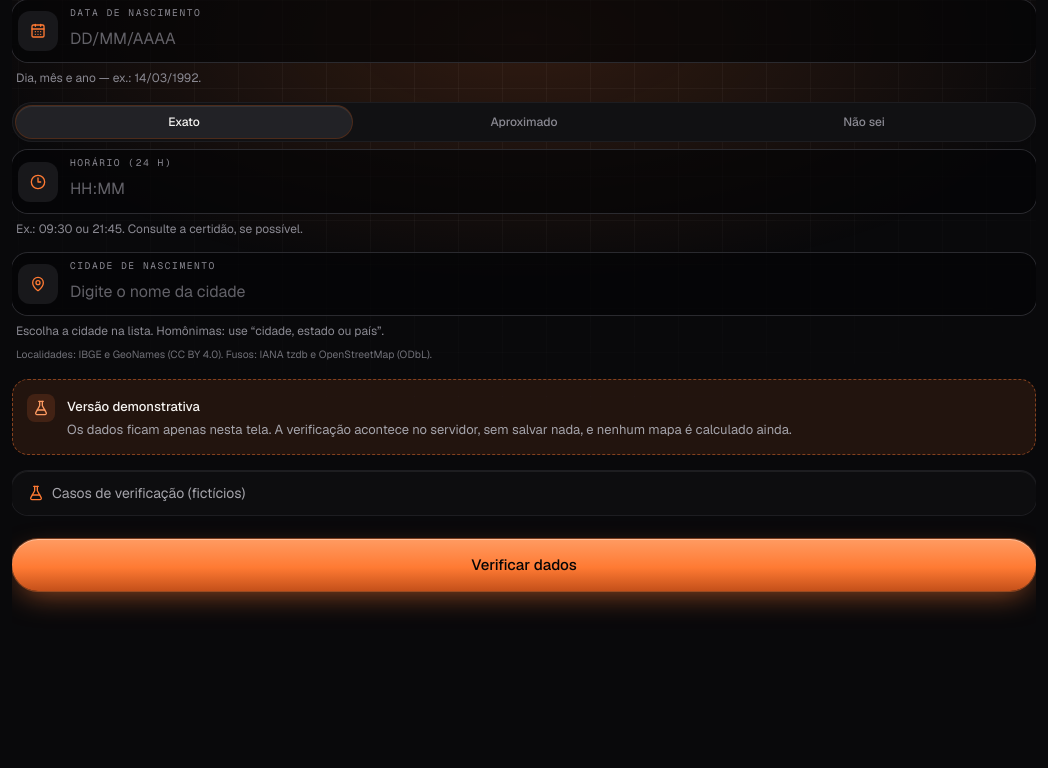
it: BirthDataForm › pede a escolha da ocorrência quando o horário se repetiu
Later steps or results of the test are not shown.
Type "15011986" into the field labelled "Data de nascimento".
click(545, 38); type("15011986")  # box [70, 20, 1020, 56]
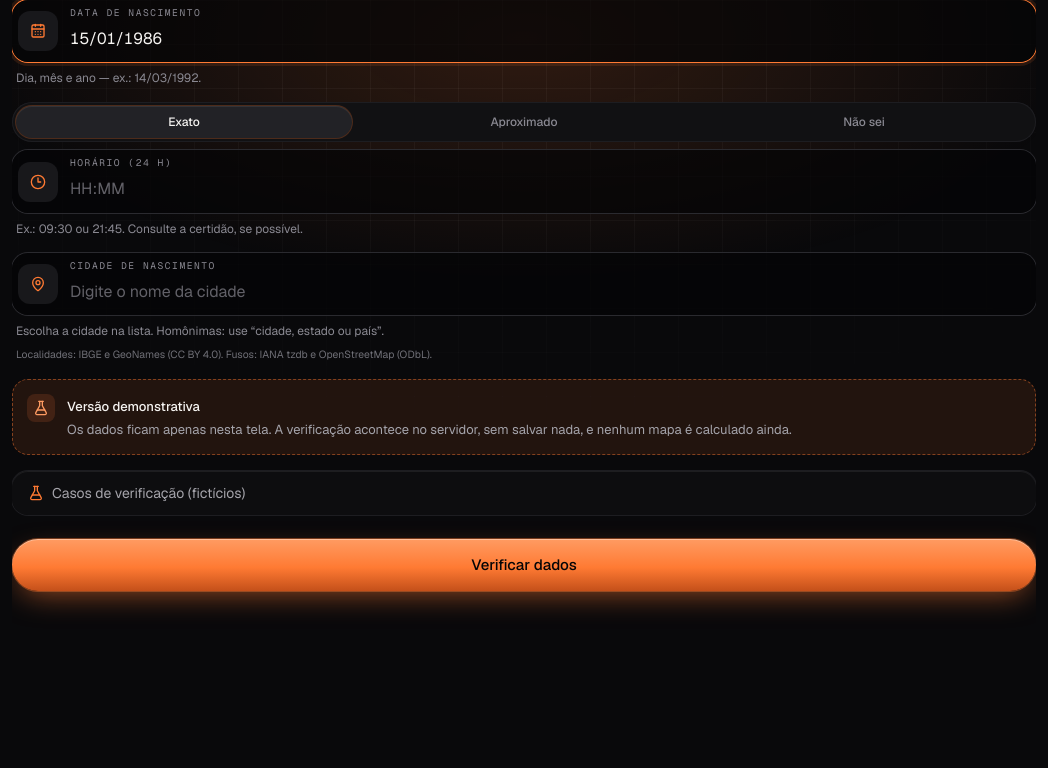
Type "1430" into the field labelled "Horário (24 h)".
click(545, 189); type("1430")  # box [70, 171, 1020, 207]
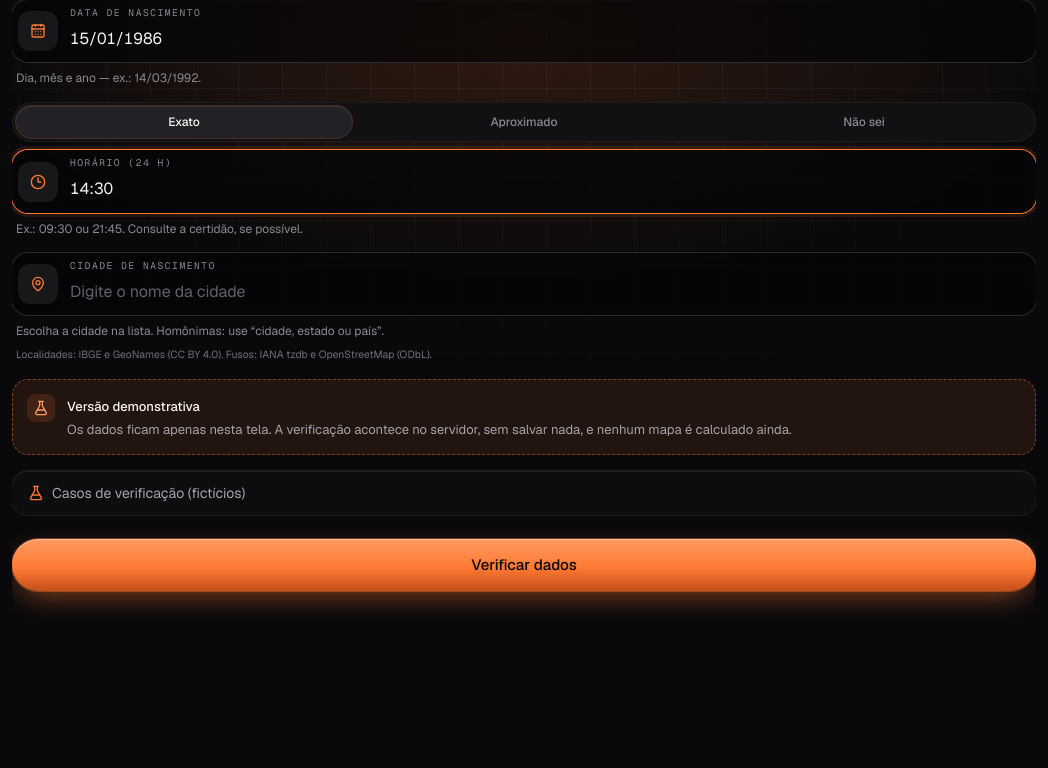
Type "Recife" into the dropdown labelled "Cidade de nascimento".
click(545, 291); type("Recife")  # box [70, 273, 1020, 309]
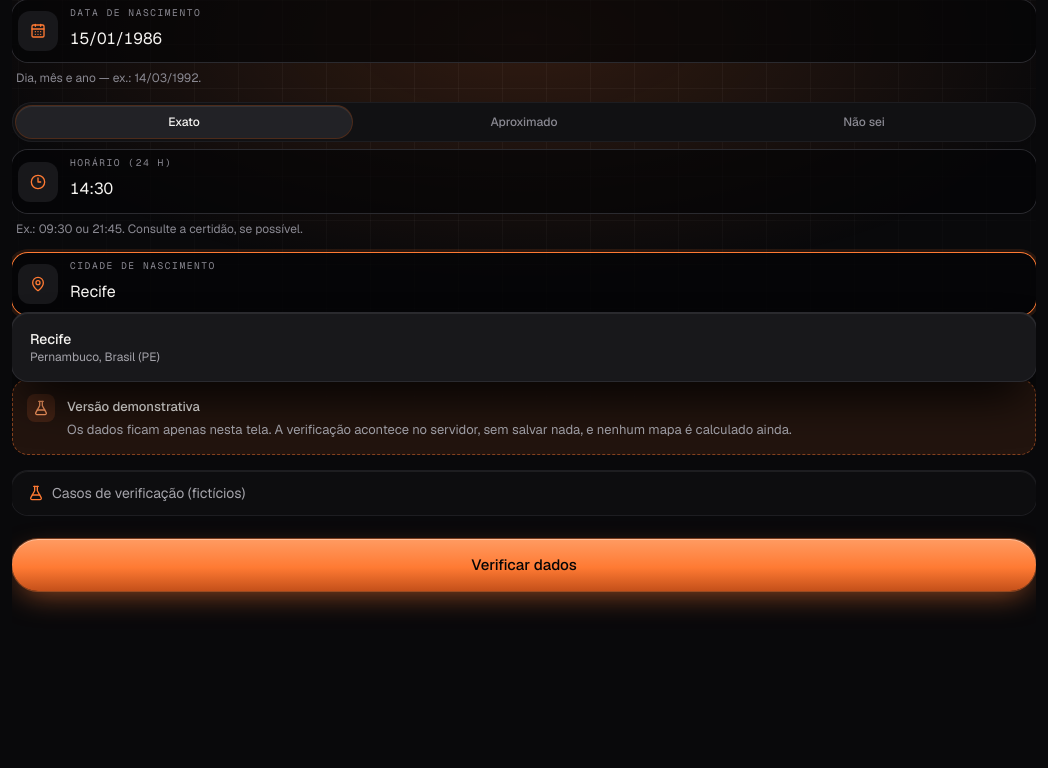
Click the option "Recife Pernambuco, Brasil (PE)".
click(95, 347)  # box [30, 330, 160, 365]
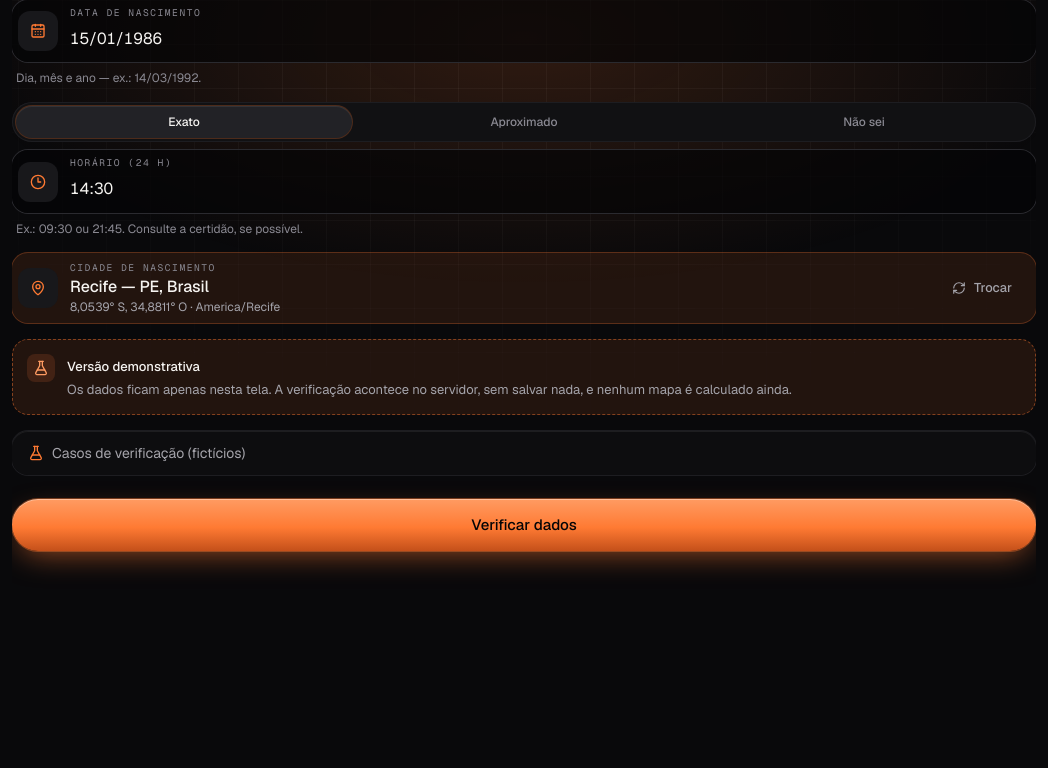
Click the button "Verificar dados".
click(524, 525)  # box [12, 499, 1036, 551]
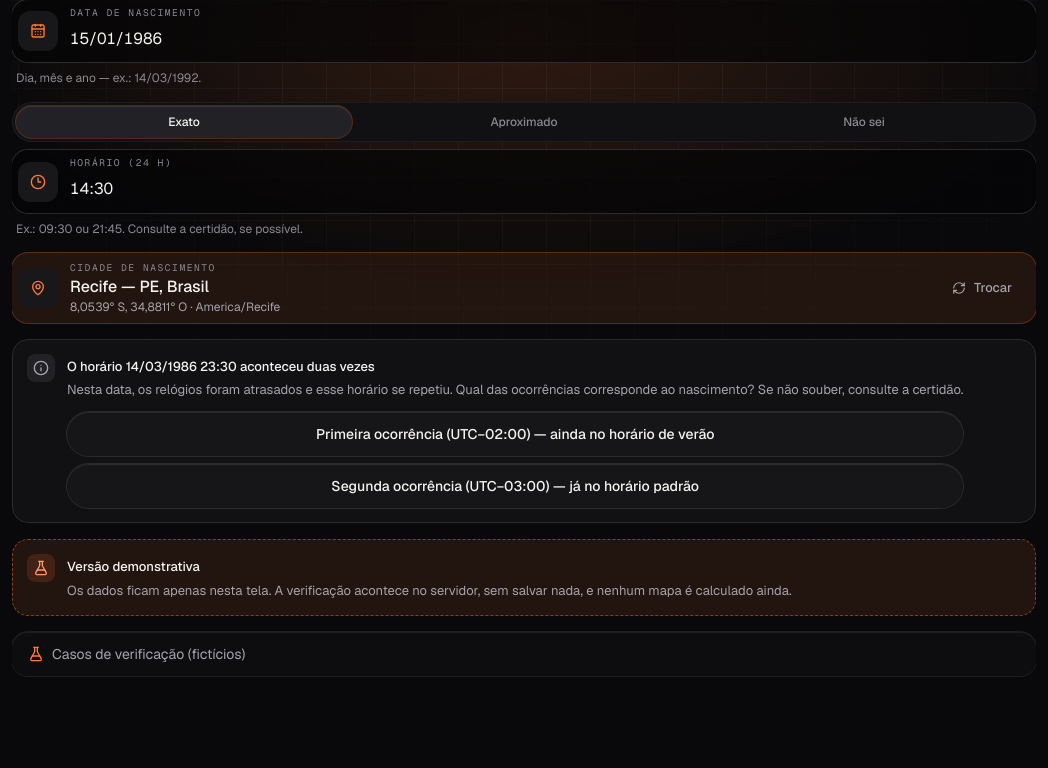
Now the text "O horário 14/03/1986 23:30 aconteceu duas vezes" is shown, box [67, 358, 375, 375]
Now the button "Verificar dados" is gone
